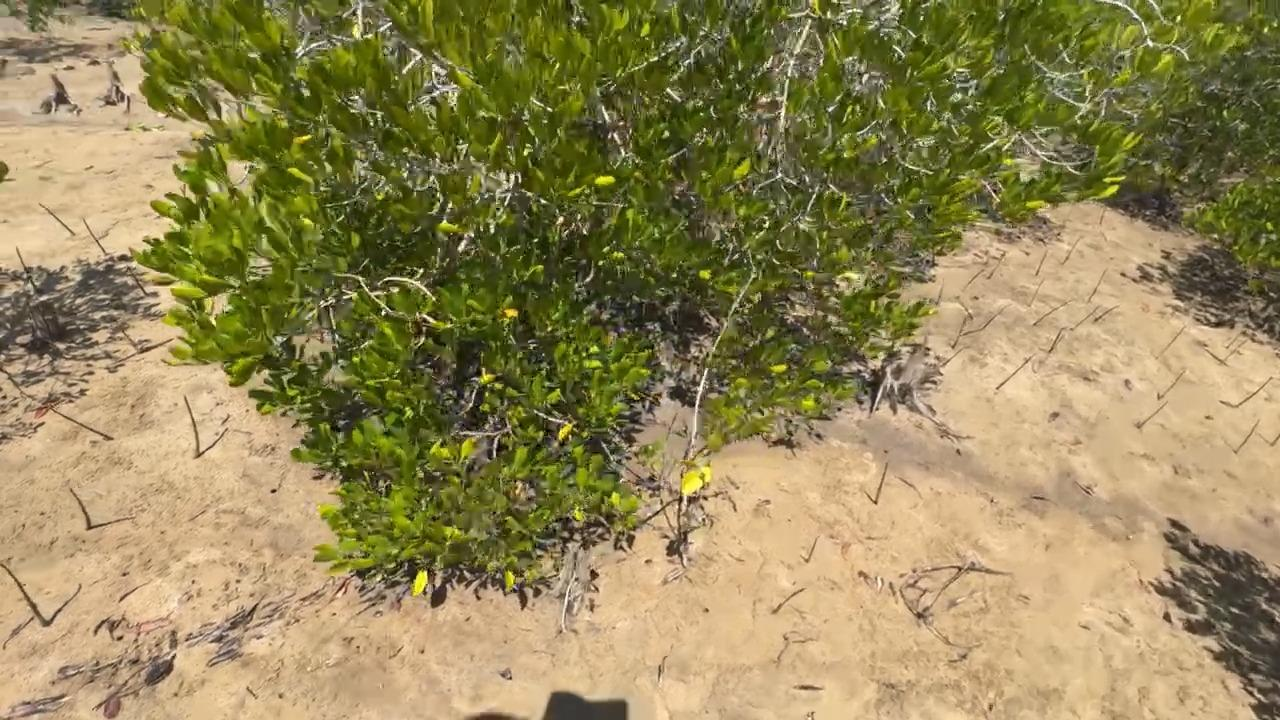Tree: (951, 295, 1012, 350), (0, 561, 48, 627), (996, 354, 1036, 390), (1233, 375, 1274, 408), (180, 394, 200, 459), (38, 203, 76, 236), (1032, 298, 1073, 326), (15, 245, 38, 292), (1233, 418, 1262, 454), (1156, 326, 1187, 359), (771, 587, 808, 614), (69, 488, 92, 530), (83, 218, 108, 256), (1137, 400, 1169, 429), (1218, 337, 1250, 366), (1069, 305, 1103, 331), (1157, 370, 1186, 400), (1086, 267, 1109, 302), (125, 267, 149, 296), (940, 345, 969, 368), (875, 462, 888, 505), (1028, 276, 1046, 307), (805, 534, 823, 564), (961, 269, 986, 290), (1093, 305, 1120, 323), (1061, 237, 1079, 264), (987, 252, 1005, 279), (1047, 328, 1066, 353), (121, 327, 139, 352), (1035, 249, 1050, 276), (1225, 333, 1243, 349), (936, 278, 945, 303), (1099, 205, 1107, 225), (1269, 433, 1280, 447), (931, 244, 937, 265), (126, 96, 132, 115)
